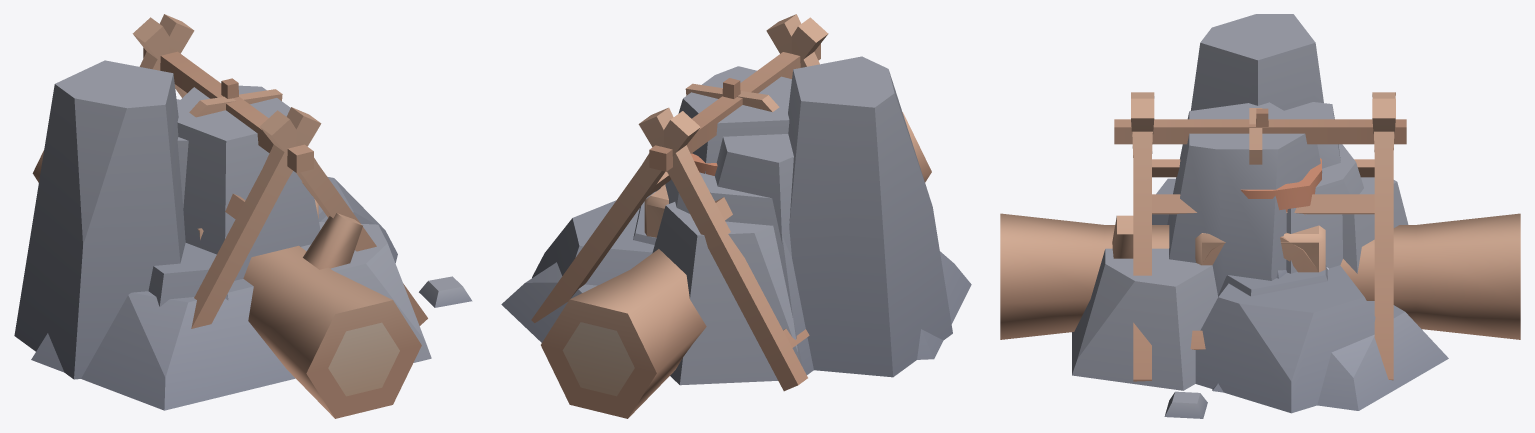
Rendered from props.glb.
3 renders of one model, left to right at view 1: azimuth 30°, elevation 25°; view 2: azimuth 150°, elevation 25°; view 3: azimuth 270°, elevation 25°, orthographic. The views are drawn at different scales.
Visible parts, largest first — view 1: rock-c, rock-b, tree-log, tent, signpost, rock-a; view 2: rock-c, rock-b, tent, tree-log, rock-a, signpost, box; view 3: rock-b, rock-c, tree-log, tent, rock-a, box, barrel, chest, signpost.
Part boxes in pixels (box(x1,y1,x2,y2)): rock-c: box(14, 60, 397, 379); rock-b: box(31, 85, 472, 410); tree-log: box(32, 150, 421, 418); tent: box(132, 14, 427, 328); signpost: box(189, 78, 282, 117); rock-a: box(176, 99, 326, 221); rock-c: box(532, 56, 952, 377); rock-b: box(501, 66, 971, 385); tent: box(531, 14, 828, 391); tree-log: box(541, 112, 931, 418); rock-a: box(633, 134, 793, 257); signpost: box(685, 78, 779, 112); box: box(644, 185, 668, 237); rock-b: box(1072, 102, 1448, 418); rock-c: box(1152, 14, 1375, 413); tree-log: box(1000, 213, 1520, 339); tent: box(1114, 92, 1406, 381); rock-a: box(1218, 102, 1340, 296); box: box(1195, 225, 1325, 272); barrel: box(1240, 158, 1321, 214); chest: box(1201, 236, 1328, 272); signpost: box(1249, 108, 1268, 164).
Bounding box in the file's own units: 0.8346 × 0.51 × 1.
